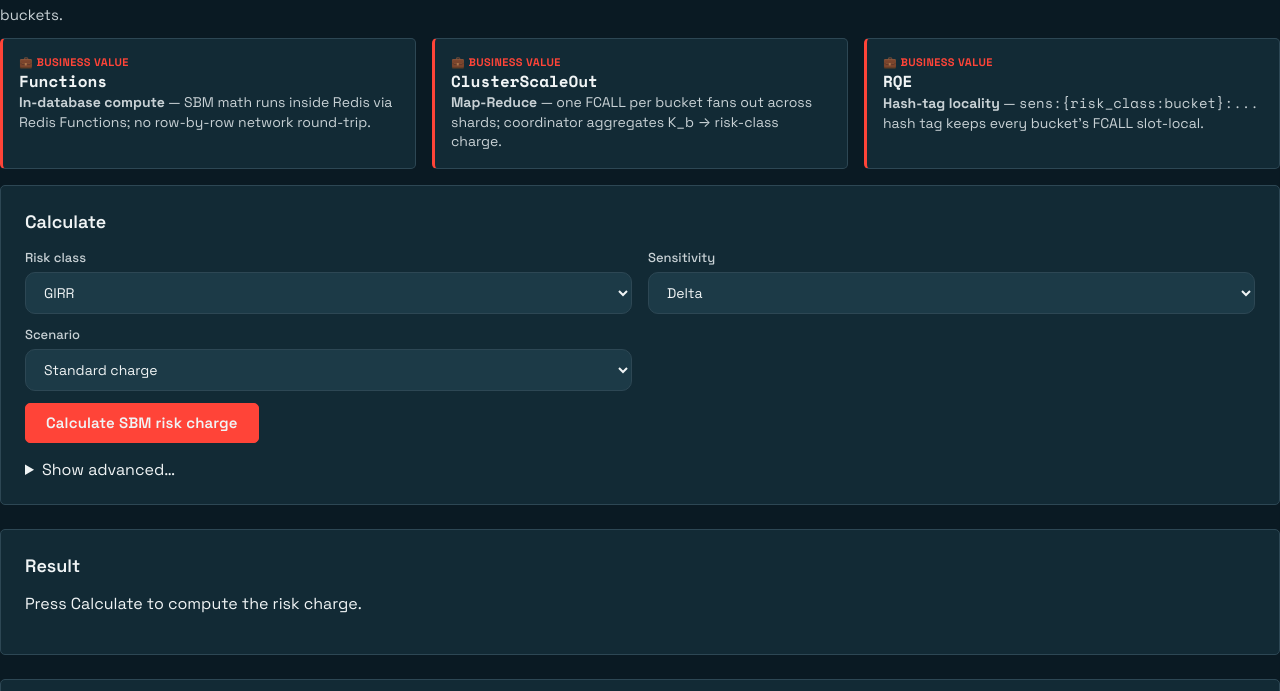
Test: Wave 6.48.B — BucketDrilldown group-by control › defaults to None and leaves the per-row table unchanged
Click the button "Calculate SBM risk charge": (142, 423) x1=25 y1=403 x2=259 y2=443
(page scrolled)
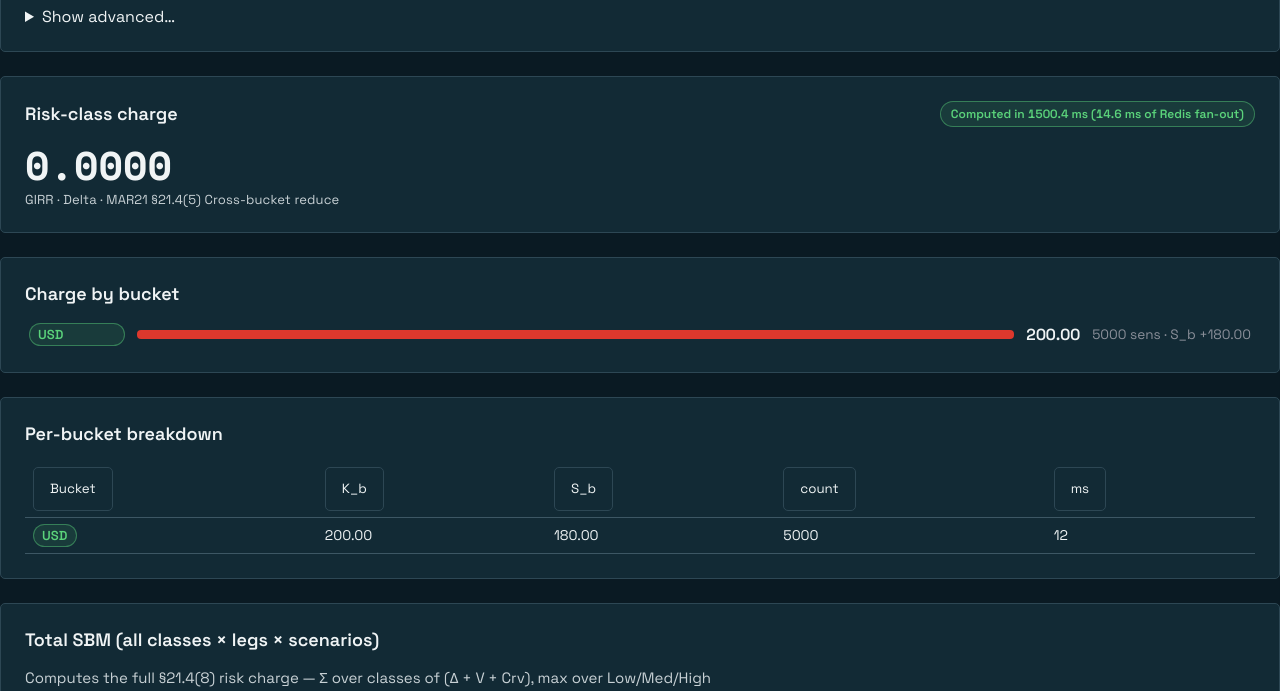
Expected: the text "0.0000" is shown, x1=25 y1=143 x2=172 y2=187
Click the button with test id "bucket-chart-row": (640, 334) x1=25 y1=321 x2=1255 y2=348
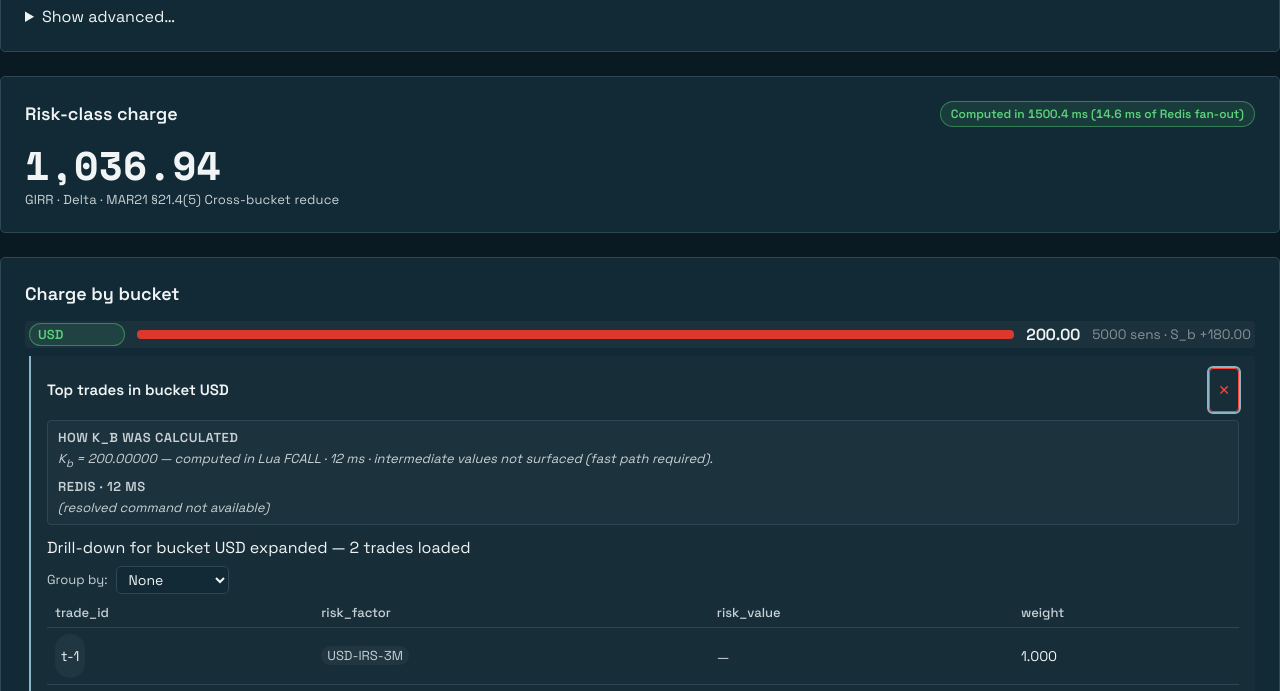
Expected: the dropdown with test id "bucket-drilldown-groupby-select" shows "None", x1=116 y1=566 x2=229 y2=594
